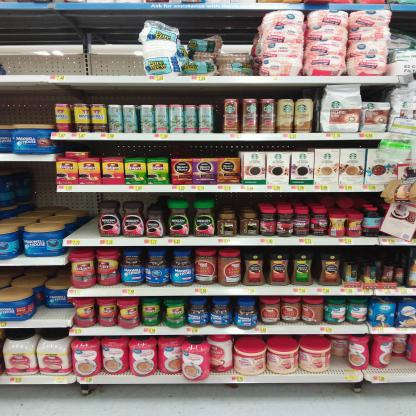Void: (2, 36, 137, 74), (3, 86, 53, 122), (21, 172, 53, 214), (34, 293, 73, 316), (366, 85, 386, 102), (214, 106, 223, 132)
